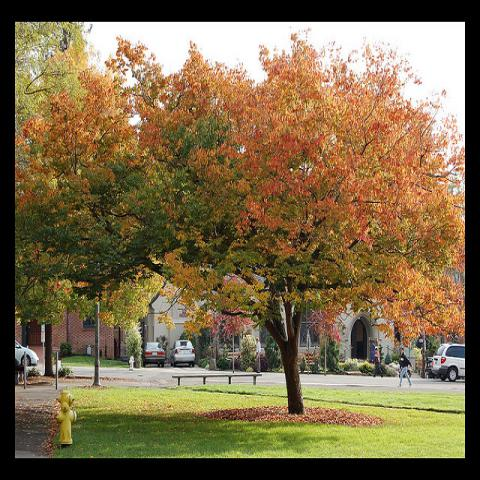car: (432, 343, 466, 382), (170, 340, 196, 366), (15, 340, 40, 366), (142, 342, 166, 368)
